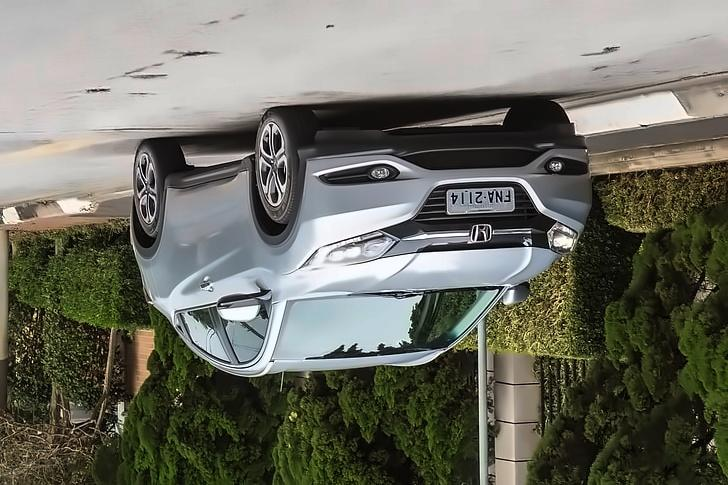Car hood: (279, 238, 566, 297)
Fender - -F-L-: (229, 175, 326, 306)
Fender - -R-L-: (122, 212, 179, 309)
Front bumper: (291, 120, 596, 239)
Headlight - -L-: (287, 228, 402, 272)
Headlight - -R-: (543, 216, 578, 255)
Passenger-s door - -F-L-: (196, 139, 289, 380)
Passenger-s door - -R-L-: (160, 145, 242, 383)
Side bumper - -L-: (163, 154, 266, 223)
Side mirror - -L-: (213, 285, 272, 326)
Side mirror - -R-: (498, 280, 531, 311)
